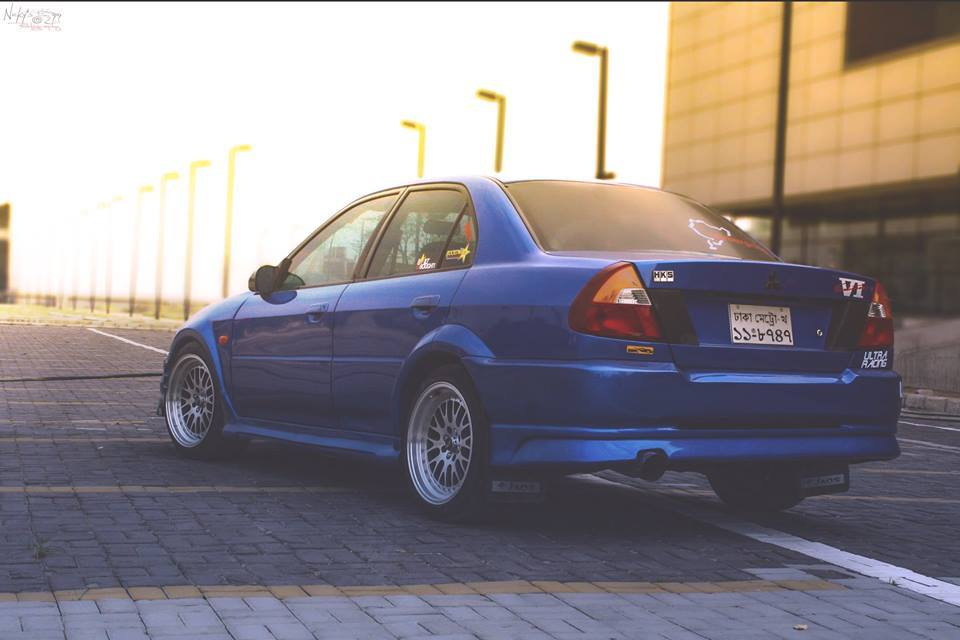registration_plate: (726, 302, 795, 347)
